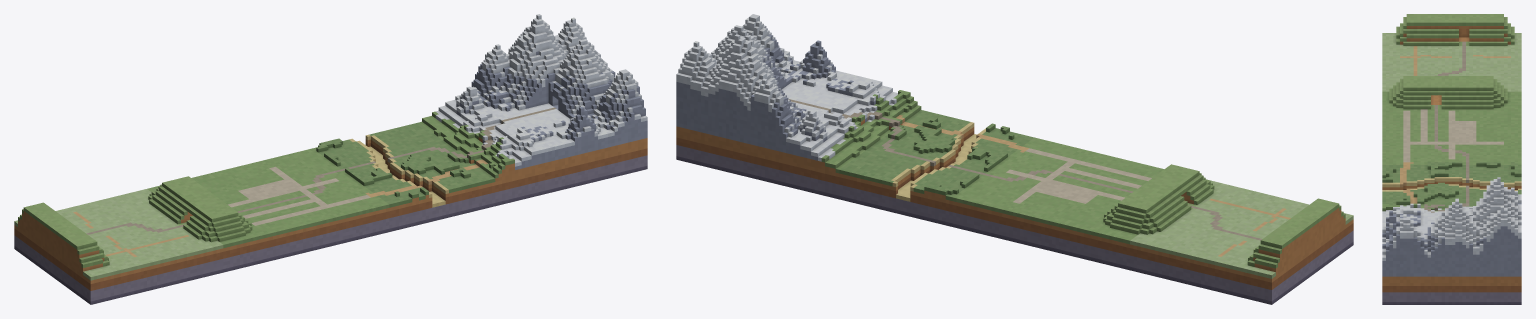
File: terrain.glb
The picture shows the model from 3 angles, left to right: view 1: azimuth 30°, elevation 25°; view 2: azimuth 150°, elevation 25°; view 3: azimuth 270°, elevation 25°; orthographic projection. The views are drawn at different scales.
Parts seen in each view (by area): view 1: ReferenceTerrain; view 2: ReferenceTerrain; view 3: ReferenceTerrain.
Boxes of the visible parts, <box> form: ReferenceTerrain: <box>14,14,647,304</box>; ReferenceTerrain: <box>676,14,1353,304</box>; ReferenceTerrain: <box>1382,14,1521,304</box>.
Bounding box in the file's own units: 168 × 34 × 40.
